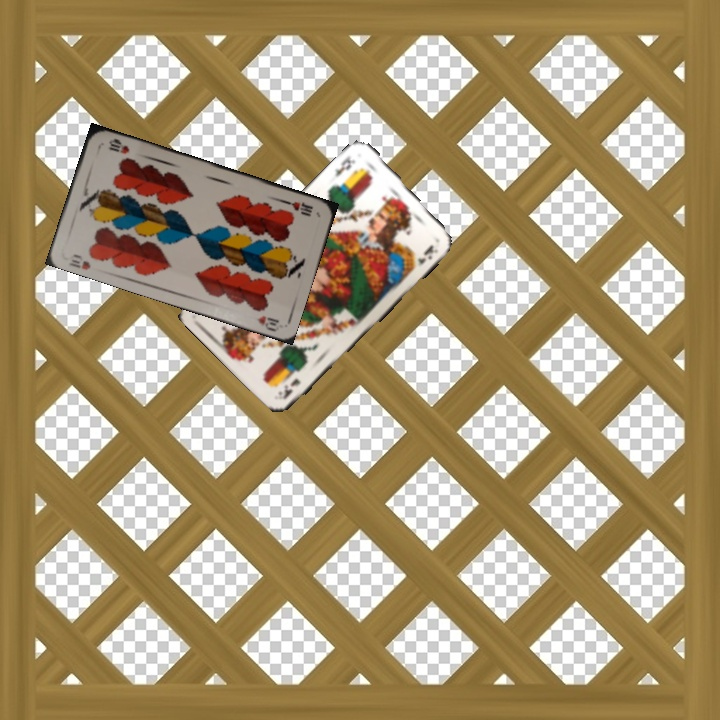EK: (330, 151, 358, 180), (279, 374, 303, 402)
H10: (279, 196, 316, 218), (65, 250, 93, 273)
